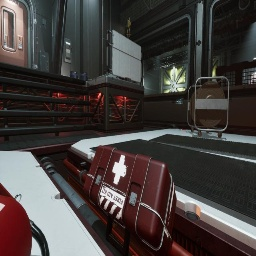FireExtinguisher ]: (0, 182, 50, 256)
FirstAidBox ,: (83, 145, 177, 256)
SafetySwitchPanel ,: (64, 38, 72, 64)
